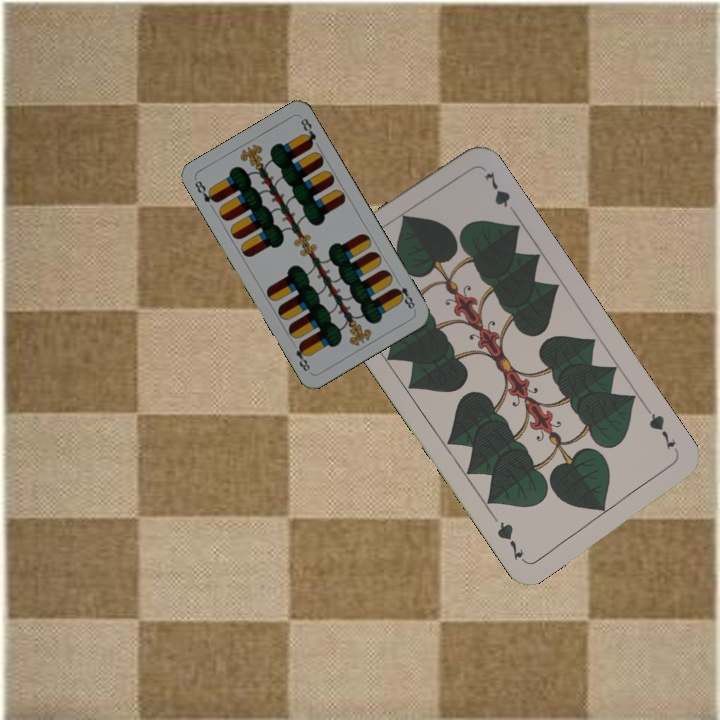E8: (390, 276, 418, 313), (191, 176, 221, 205)
G7: (642, 405, 682, 457)
